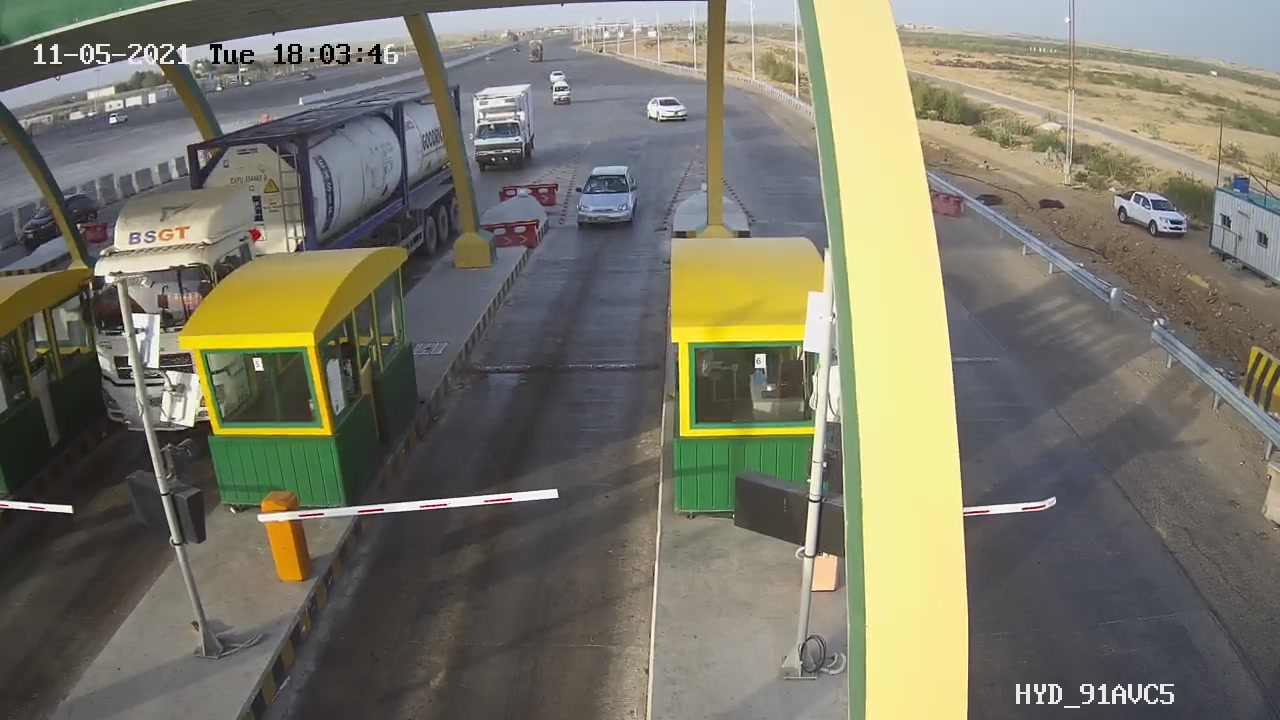F1: (557, 157, 660, 239)
